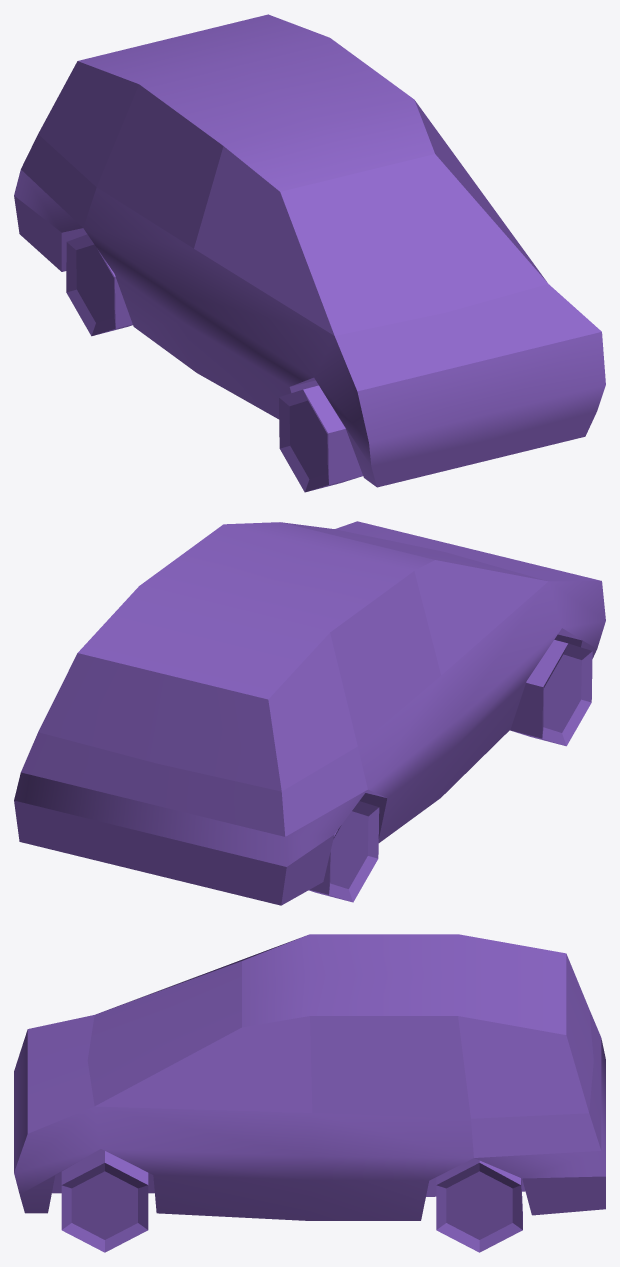
The model's file is purplecartest.fbx.
3 views of the same model, one above another, from view 1: azimuth 30°, elevation 25°; view 2: azimuth 150°, elevation 25°; view 3: azimuth 270°, elevation 25° (orthographic). The views are drawn at different scales.
Parts seen in each view (by area): view 1: carBox2; view 2: carBox2; view 3: carBox2.
Boxes of the visible parts, bbox=[...] form: carBox2: bbox=[14, 14, 605, 492]; carBox2: bbox=[14, 521, 605, 905]; carBox2: bbox=[14, 934, 605, 1252].
Bounding box in the file's own units: 106 × 89.9 × 218.
